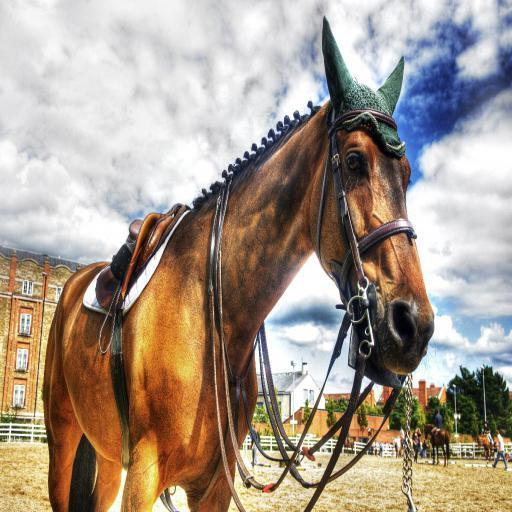horse: (38, 9, 436, 512), (422, 423, 454, 466), (476, 433, 497, 465)
